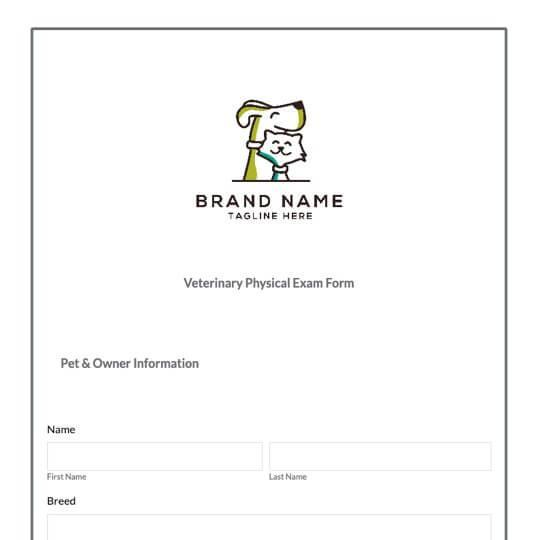input: (49, 516, 492, 540), (271, 444, 494, 472), (49, 444, 265, 472)
label: (183, 274, 360, 296), (57, 353, 204, 378), (44, 421, 84, 440), (46, 471, 92, 486), (45, 493, 85, 510), (268, 473, 310, 485)
